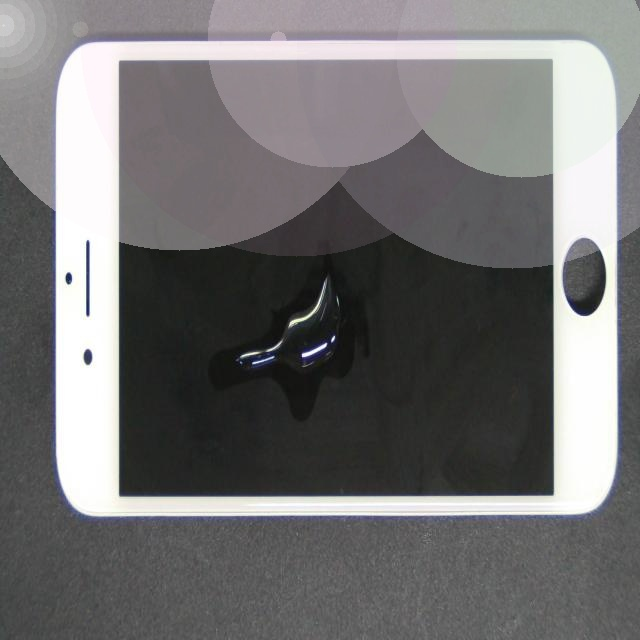oil: (144, 152, 443, 575)
